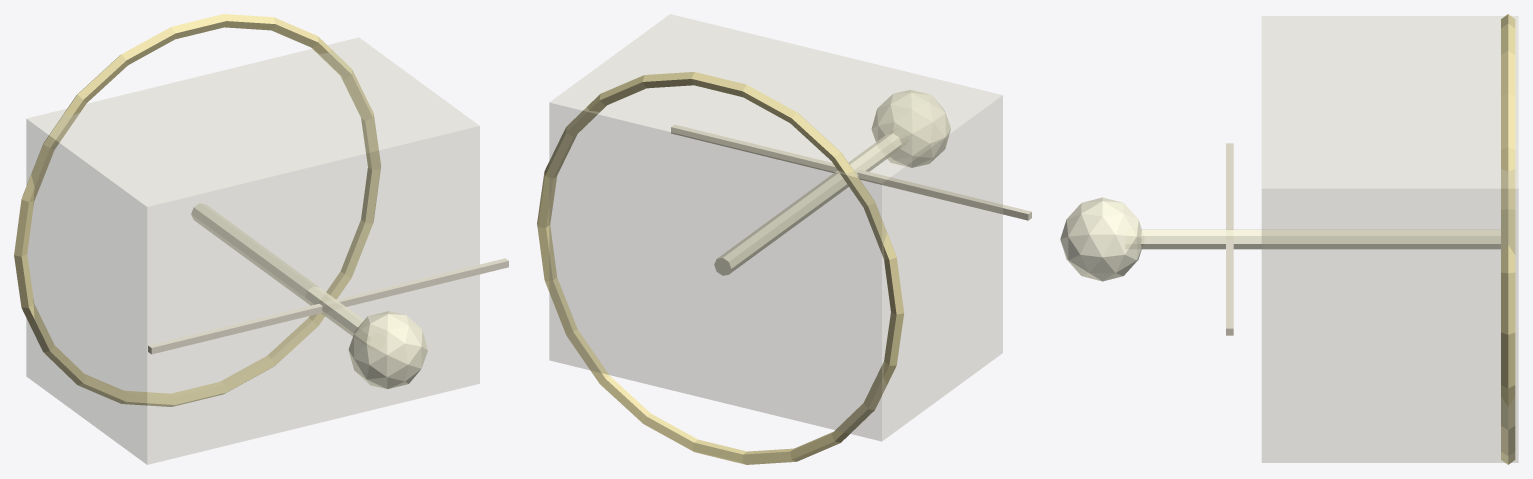
Rendered from 05_dynamic_camera_trigger.glb.
3 views of the same model, side by side, from view 1: azimuth 30°, elevation 25°; view 2: azimuth 150°, elevation 25°; view 3: azimuth 270°, elevation 25° (orthographic). The views are drawn at different scales.
Visible parts, largest first — view 1: camera_trigger_volume, combat_start_ring, focus_target, focus_target_pole, camera_axis; view 2: camera_trigger_volume, combat_start_ring, focus_target, focus_target_pole, camera_axis; view 3: camera_trigger_volume, focus_target_pole, combat_start_ring, focus_target, camera_axis.
Part boxes in pixels (x1,y1,x2,y2): camera_trigger_volume: (26,37,479,464); combat_start_ring: (14,14,380,406); focus_target: (348,311,427,389); focus_target_pole: (191,203,364,336); camera_axis: (148,258,508,354); camera_trigger_volume: (549,14,1002,441); combat_start_ring: (537,72,904,464); focus_target: (871,90,950,167); focus_target_pole: (714,133,901,275); camera_axis: (671,124,1031,220); camera_trigger_volume: (1262,16,1518,462); focus_target_pole: (1141,229,1500,249); combat_start_ring: (1501,14,1515,464); focus_target: (1060,197,1141,281); camera_axis: (1226,143,1233,335).
Bounding box in the file's own units: 1.49 × 1.47 × 1.51.
